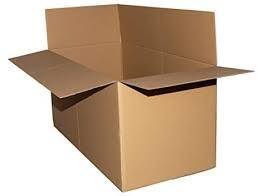cardboard: (6, 2, 253, 190)
